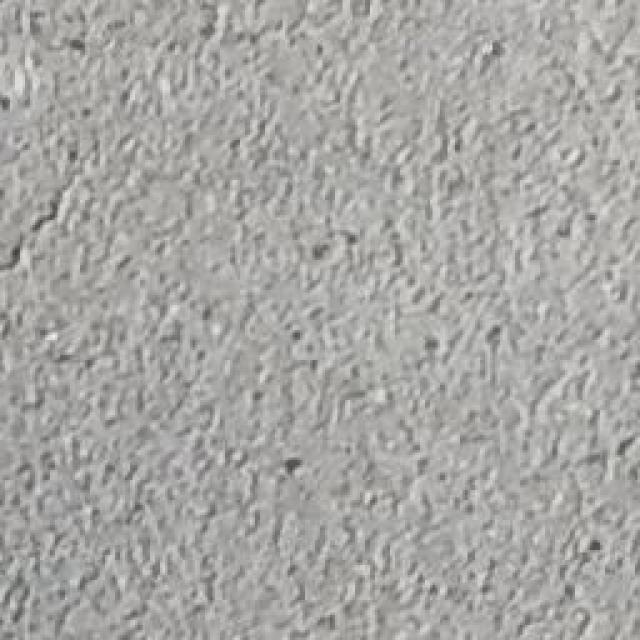concrete-crack: (5, 142, 86, 271)
